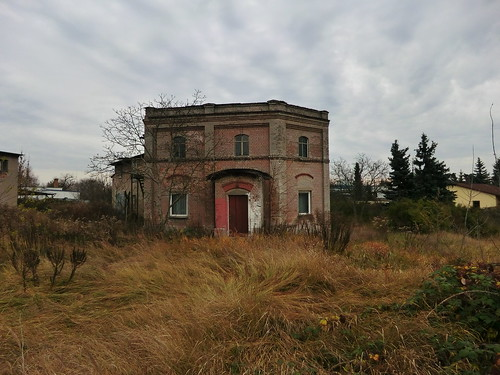building: (119, 106, 329, 247)
grass: (1, 237, 500, 375)
sky: (1, 1, 497, 133)
tree: (98, 96, 221, 248), (411, 133, 457, 213), (387, 135, 415, 206)
